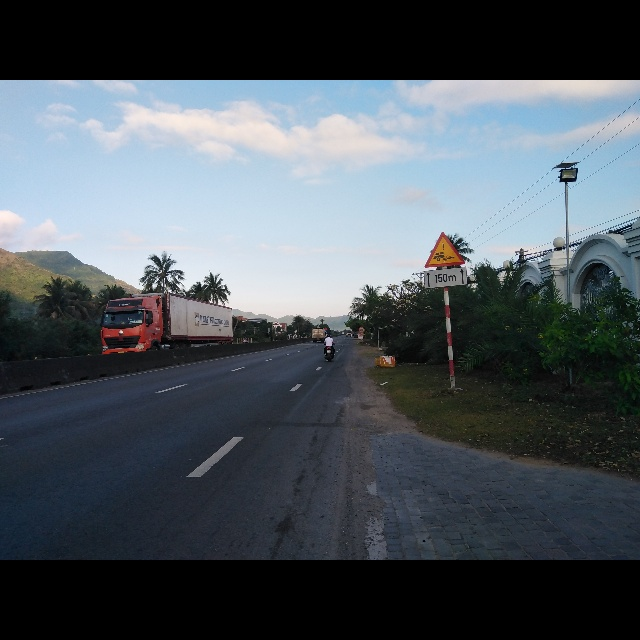Đoạn đường hay xảy ra tai nạn: (423, 232, 466, 266)
